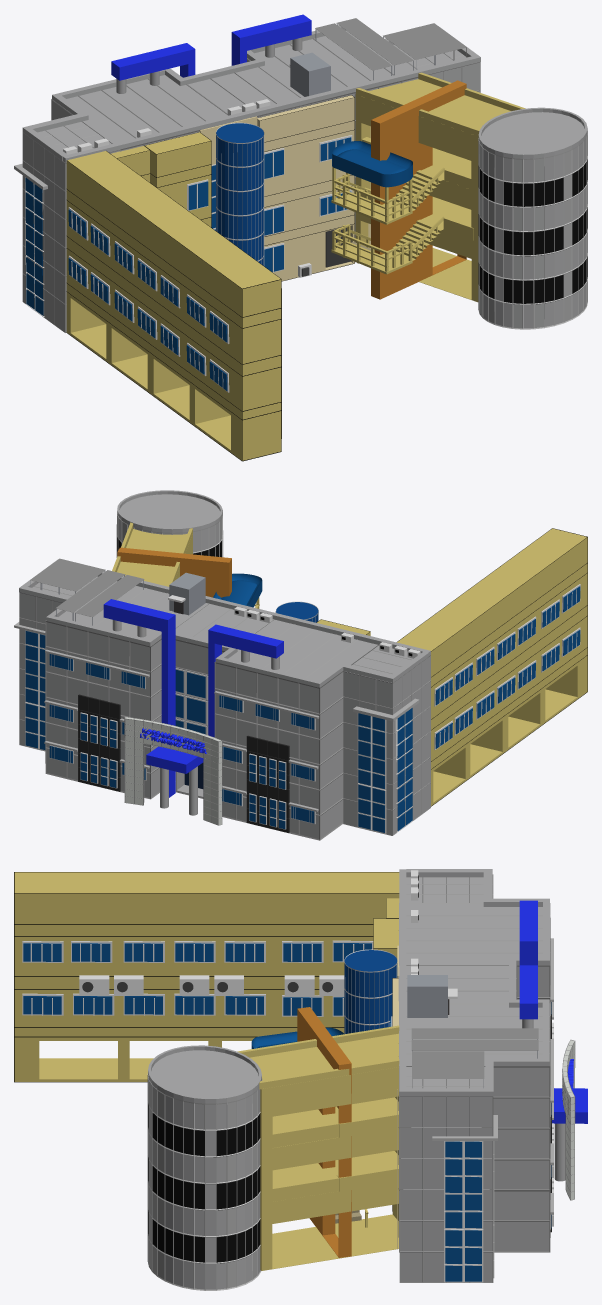
Rendered from cKOREAPHIL.glb.
3 renders of one model, top to bottom at view 1: azimuth 30°, elevation 25°; view 2: azimuth 150°, elevation 25°; view 3: azimuth 270°, elevation 25°, orthographic. The views are drawn at different scales.
Parts seen in each view (by area): view 1: Cube.031; view 2: Cube.031, Text; view 3: Cube.031.
Part boxes in pixels (x1=…): Cube.031: x1=14, y1=14, x2=587, y2=461; Cube.031: x1=14, y1=490, x2=587, y2=840; Text: x1=140, y1=728, x2=206, y2=753; Cube.031: x1=14, y1=869, x2=587, y2=1290.
Bounding box in the file's own units: 12.04 × 5.28 × 12.57.
